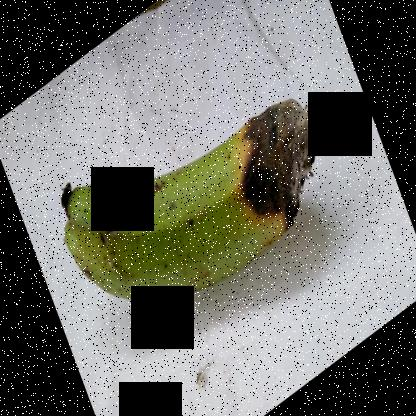rotten: (216, 60, 334, 253)
unripe: (45, 127, 245, 334)
